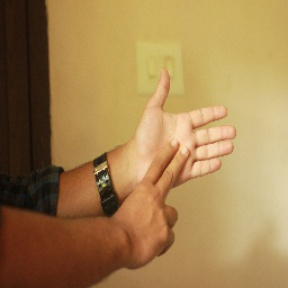N: (113, 66, 241, 258)
